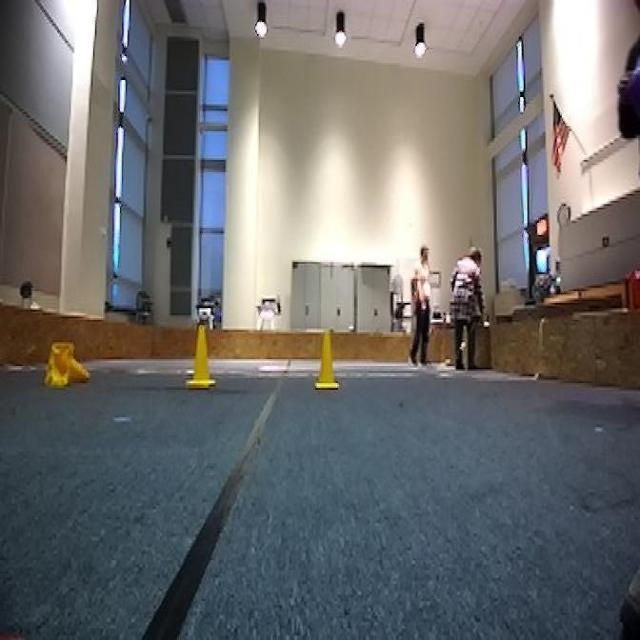frc_cone: (185, 320, 220, 390), (44, 344, 90, 386), (312, 334, 343, 389)
frc_cube: (618, 68, 640, 140)
